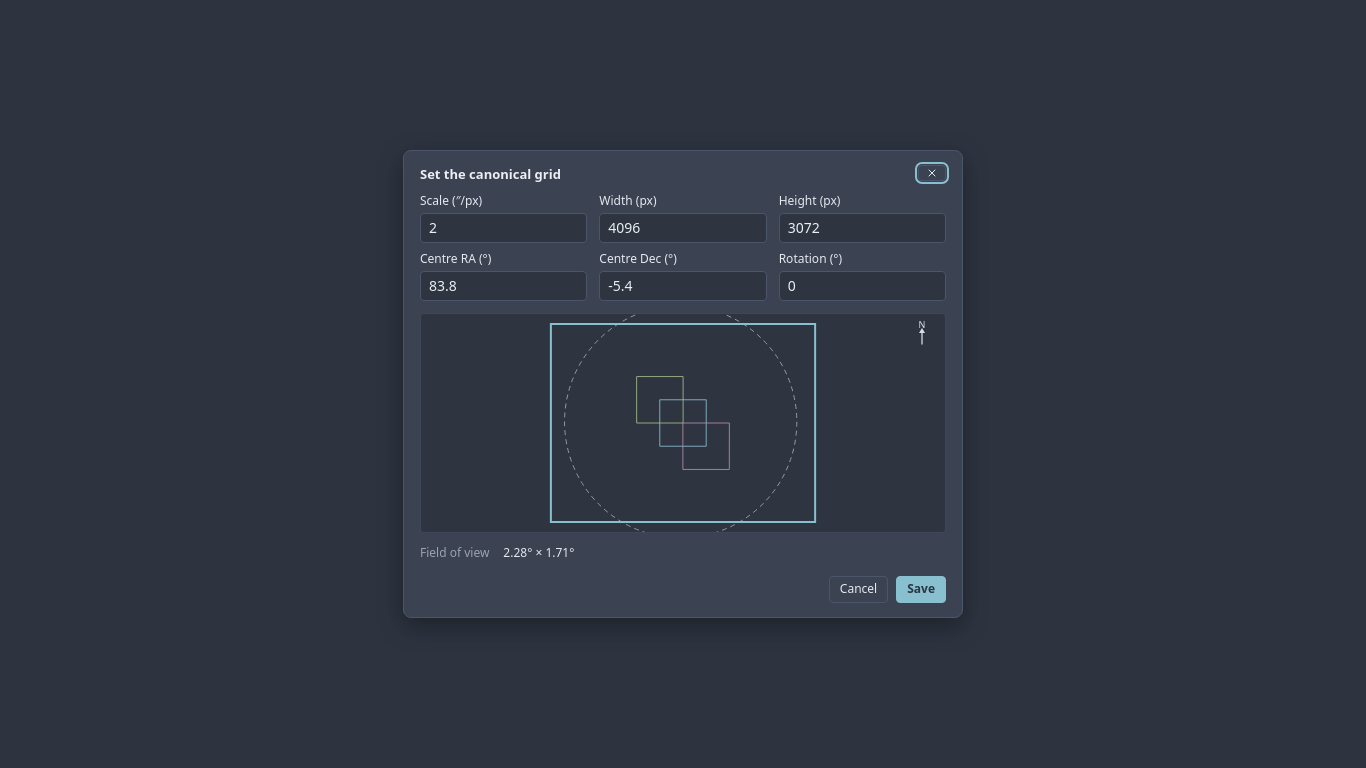
it: GridDialog › keeps itself open on a refused save, shows the message and notifies once
This screenshot has width=1366, height=768.
Click the button "Save" at (921,590), box [896,576,946,603]
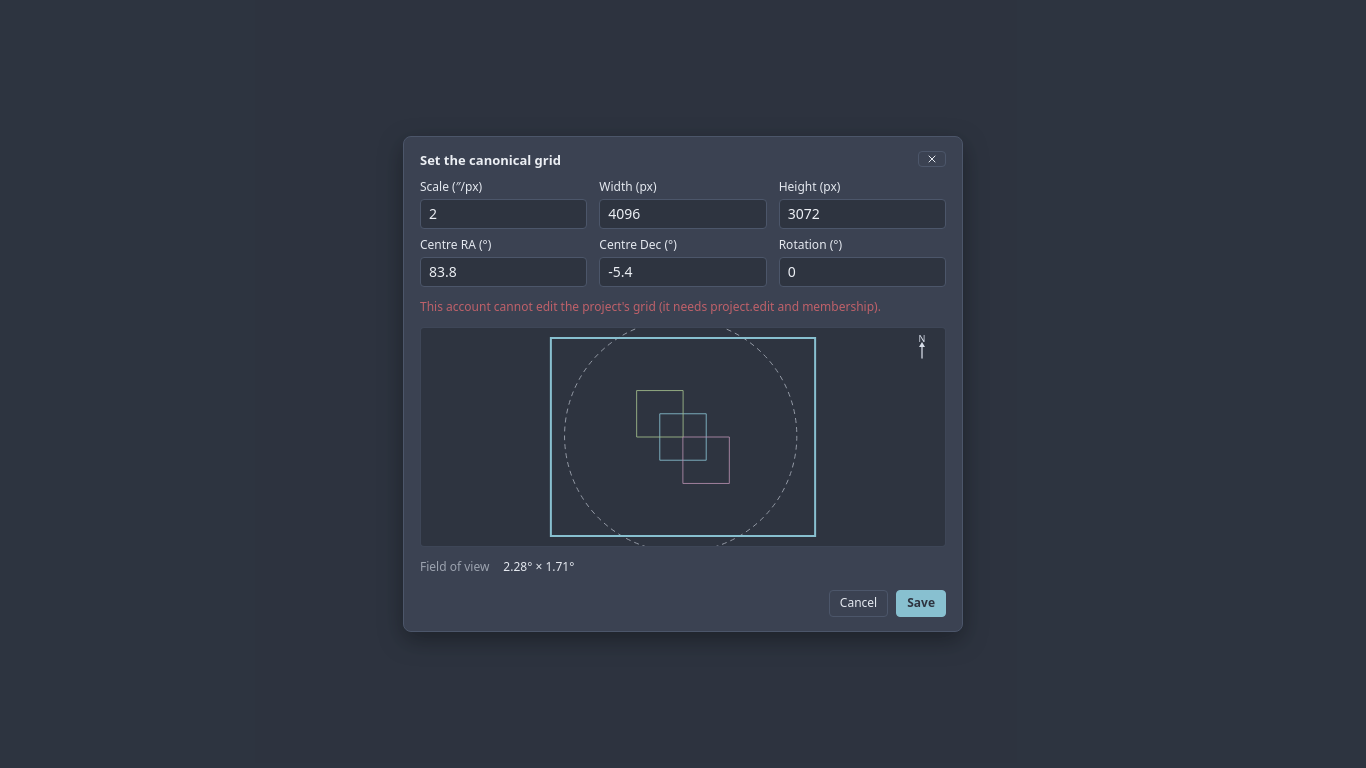
Expected: the dialog is shown, [403,136,963,632]
Result: the message shows "This account cannot edit the project's grid (it needs project.edit and membership)." at [420,298,881,315]
